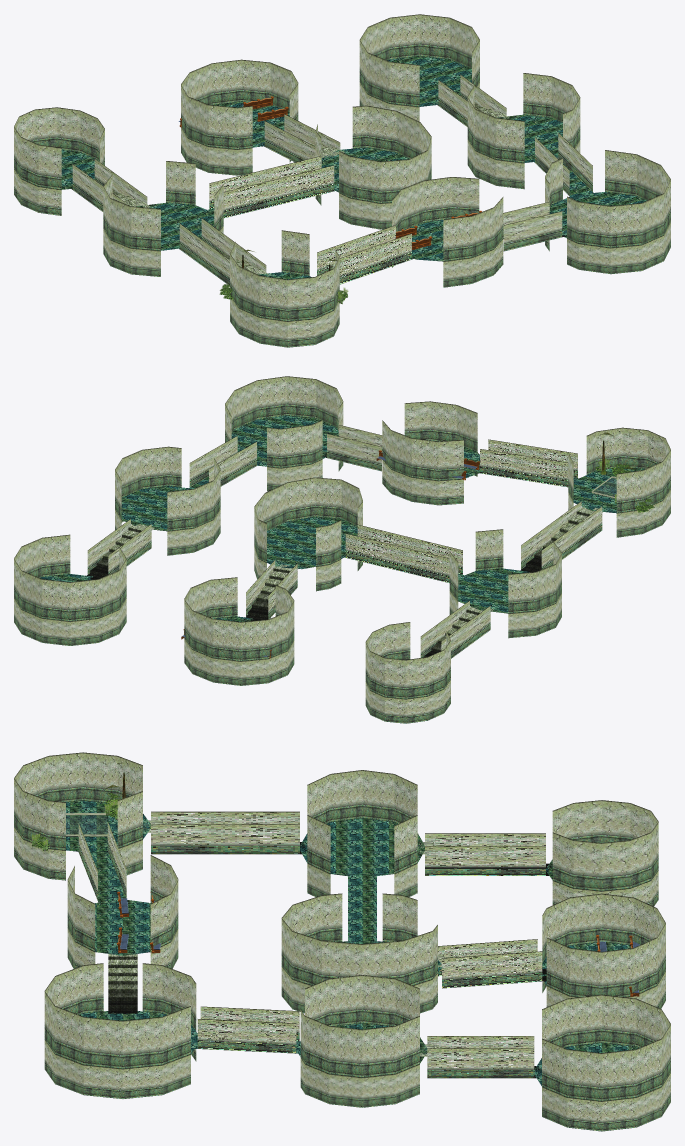
File: anterose.gltf
3 renders of one model, top to bottom at view 1: azimuth 30°, elevation 25°; view 2: azimuth 150°, elevation 25°; view 3: azimuth 270°, elevation 25°, orthographic. The views are drawn at different scales.
Parts seen in each view (by area): view 1: Les ÃƒÆ’Ã†â€™Ãƒâ€ Ã¢â‚¬â„¢ÃƒÆ’Ã¢â‚¬Â ÃƒÂ¢Ã¢â€šÂ¬Ã¢â€žÂ¢ÃƒÆ’Ã; view 2: Les ÃƒÆ’Ã†â€™Ãƒâ€ Ã¢â‚¬â„¢ÃƒÆ’Ã¢â‚¬Â ÃƒÂ¢Ã¢â€šÂ¬Ã¢â€žÂ¢ÃƒÆ’Ã; view 3: Les ÃƒÆ’Ã†â€™Ãƒâ€ Ã¢â‚¬â„¢ÃƒÆ’Ã¢â‚¬Â ÃƒÂ¢Ã¢â€šÂ¬Ã¢â€žÂ¢ÃƒÆ’Ã.
Boxes of the visible parts, bbox=[...] form: Les ÃƒÆ’Ã†â€™Ãƒâ€ Ã¢â‚¬â„¢ÃƒÆ’Ã¢â‚¬Â ÃƒÂ¢Ã¢â€šÂ¬Ã¢â€žÂ¢ÃƒÆ’Ã: bbox=[14, 14, 670, 347]; Les ÃƒÆ’Ã†â€™Ãƒâ€ Ã¢â‚¬â„¢ÃƒÆ’Ã¢â‚¬Â ÃƒÂ¢Ã¢â€šÂ¬Ã¢â€žÂ¢ÃƒÆ’Ã: bbox=[14, 376, 670, 723]; Les ÃƒÆ’Ã†â€™Ãƒâ€ Ã¢â‚¬â„¢ÃƒÆ’Ã¢â‚¬Â ÃƒÂ¢Ã¢â€šÂ¬Ã¢â€žÂ¢ÃƒÆ’Ã: bbox=[14, 752, 670, 1131].
Bounding box in the file's own units: 46.53 × 10.17 × 49.4.
Materials: 12 (12 with a texture image).
